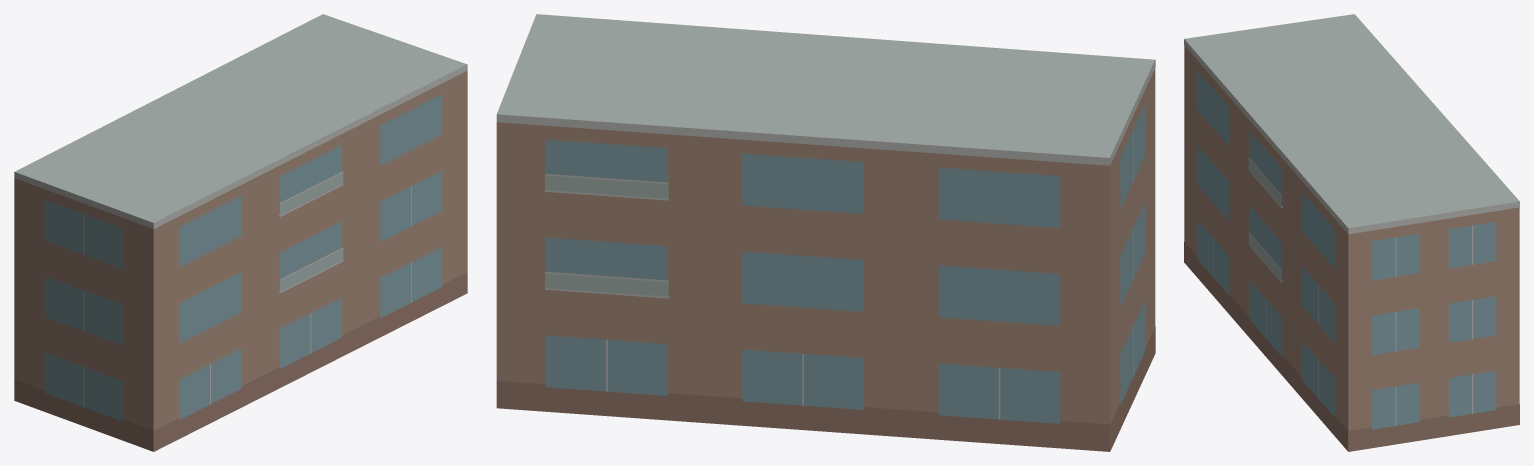
Rendered from survey-upis-32625157.glb.
3 renders of one model, left to right at view 1: azimuth 30°, elevation 25°; view 2: azimuth 150°, elevation 25°; view 3: azimuth 270°, elevation 25°, orthographic. The views are drawn at different scales.
Visible parts, largest first — view 1: survey-upis-32625157.tmp; view 2: survey-upis-32625157.tmp; view 3: survey-upis-32625157.tmp.
Part boxes in pixels (<box>): survey-upis-32625157.tmp: <box>14,14,467,451</box>; survey-upis-32625157.tmp: <box>496,14,1155,451</box>; survey-upis-32625157.tmp: <box>1184,14,1519,451</box>.
Bounding box in the file's own units: 18.84 × 9.15 × 12.47.
